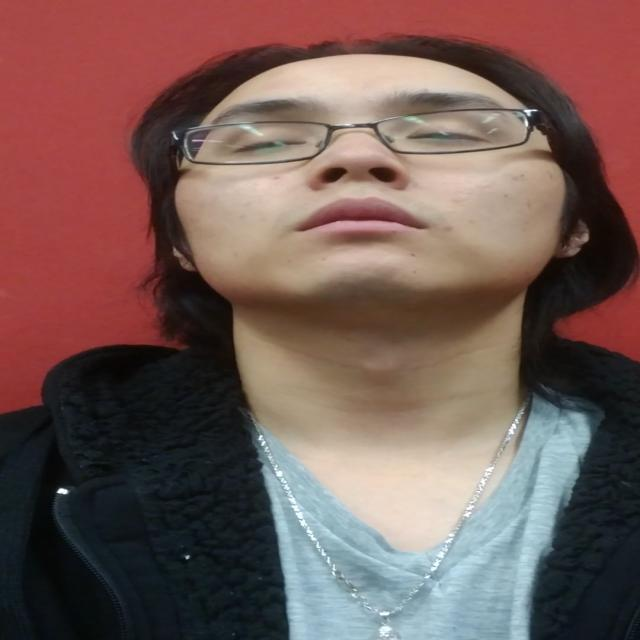close: (203, 95, 329, 171), (384, 84, 506, 152)
